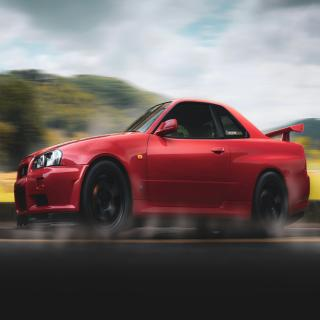Normal_vehicle: (14, 93, 310, 235)
